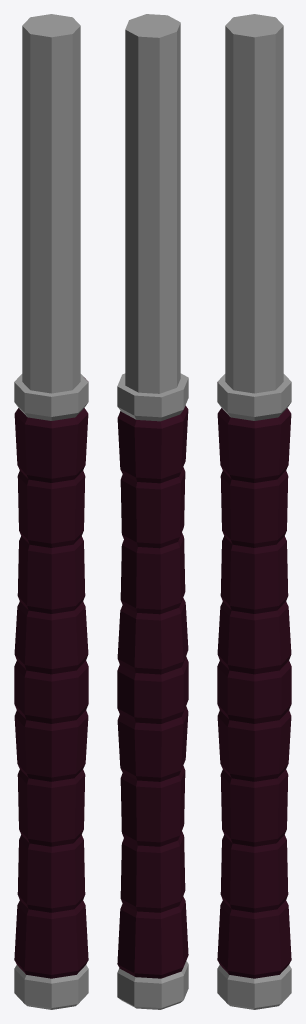
File: Greatsword.Handle.fbx
3 renders of one model, left to right at view 1: azimuth 90°, elevation 25°; view 2: azimuth 150°, elevation 25°; view 3: azimuth 270°, elevation 25°, orthographic.
Parts seen in each view (by area): view 1: Greatsword.Handle; view 2: Greatsword.Handle; view 3: Greatsword.Handle.
Part boxes in pixels (bbox=[...]): Greatsword.Handle: bbox=[14, 14, 88, 1009]; Greatsword.Handle: bbox=[117, 14, 188, 1009]; Greatsword.Handle: bbox=[217, 14, 291, 1009].
Bounding box in the file's own units: 0.0391 × 0.041 × 0.5892.
